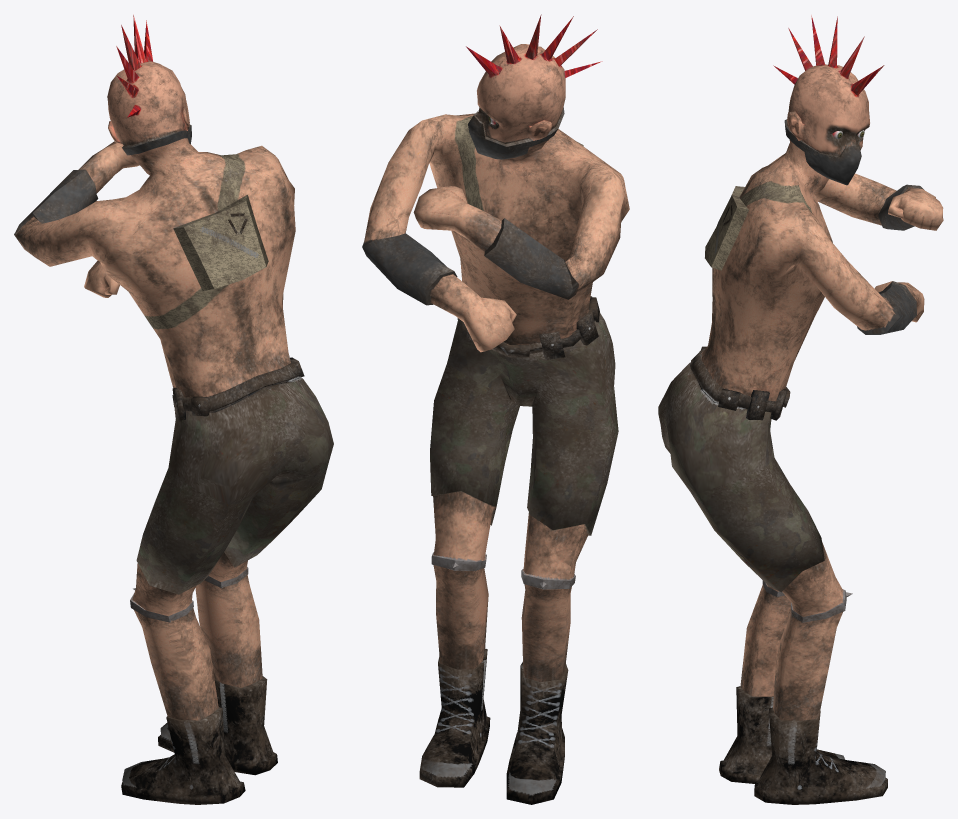
File: Anim_arma_c_npc2.0022.obj
3 views of the same model, side by side, from view 1: azimuth 30°, elevation 25°; view 2: azimuth 150°, elevation 25°; view 3: azimuth 270°, elevation 25° (orthographic). The views are drawn at different scales.
Visible parts, largest first — view 1: polySurface1; view 2: polySurface1; view 3: polySurface1.
Part boxes in pixels (x1,y1,x2,y2): polySurface1: (14,14,333,804); polySurface1: (362,14,629,804); polySurface1: (658,15,943,804).
Size of the model in its own units: 3.05 by 9.73 by 3.34.
